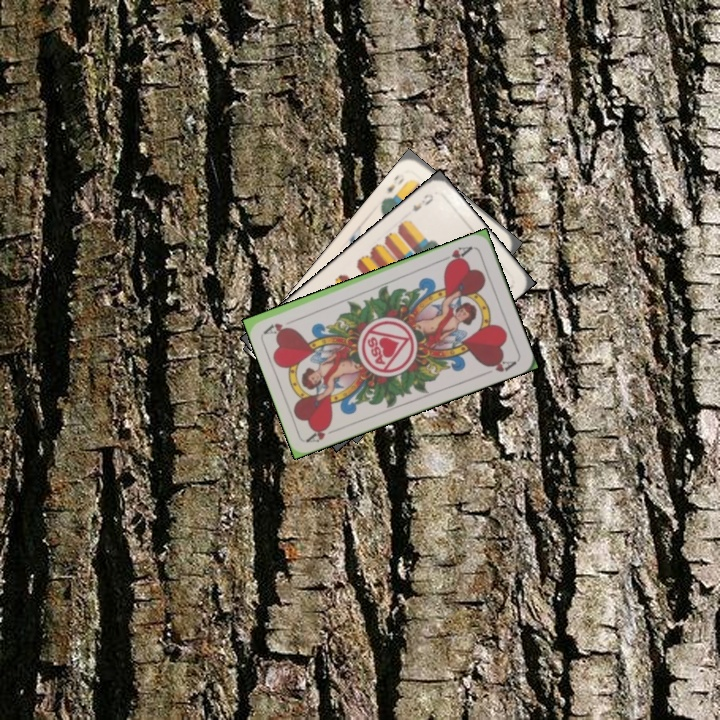E9: (409, 189, 436, 214)
EO: (383, 171, 407, 197)
HA: (303, 419, 343, 445), (437, 242, 475, 268)
